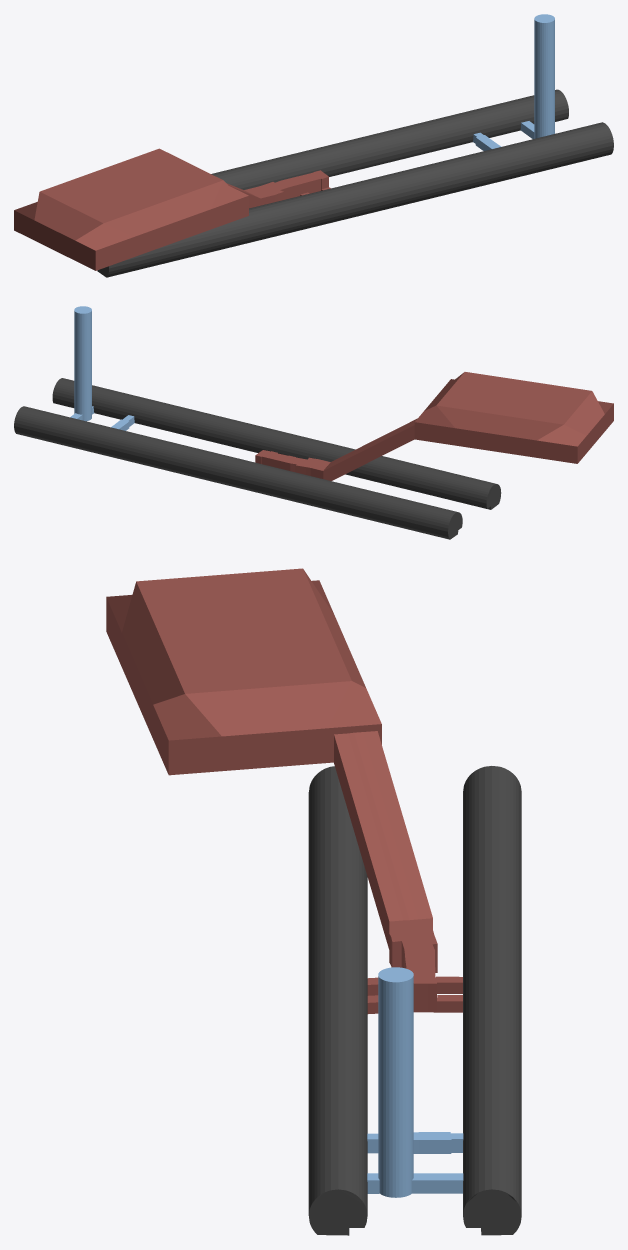
The picture shows the model from 3 angles, top to bottom: view 1: azimuth 30°, elevation 25°; view 2: azimuth 150°, elevation 25°; view 3: azimuth 270°, elevation 25°; orthographic projection. The views are drawn at different scales.
Visible parts, largest first — view 1: TicketHall, PLT1, PLT2, 14, Concourse; view 2: PLT2, TicketHall, PLT1, 14, ESC, Concourse; view 3: TicketHall, PLT2, PLT1, ESC, 14, Concourse, 33.
Boxes of the visible parts, left/top/right/bottom form: TicketHall: left=14, top=148, right=248, bottom=270; PLT1: left=97, top=122, right=613, bottom=277; PLT2: left=211, top=89, right=568, bottom=189; 14: left=520, top=14, right=554, bottom=138; Concourse: left=244, top=170, right=328, bottom=205; PLT2: left=14, top=406, right=462, bottom=539; TicketHall: left=414, top=372, right=613, bottom=463; PLT1: left=52, top=378, right=501, bottom=509; 14: left=70, top=306, right=94, bottom=421; ESC: left=323, top=418, right=417, bottom=480; Concourse: left=255, top=450, right=330, bottom=478; TicketHall: left=106, top=568, right=381, bottom=775; PLT2: left=463, top=766, right=521, bottom=1235; PLT1: left=308, top=766, right=367, bottom=1235; ESC: left=334, top=731, right=432, bottom=949; 14: left=367, top=967, right=463, bottom=1197; Concourse: left=389, top=918, right=437, bottom=1012; 33: left=367, top=1132, right=463, bottom=1153.
Bounding box in the file's own units: 186 × 38.67 × 65.05.
